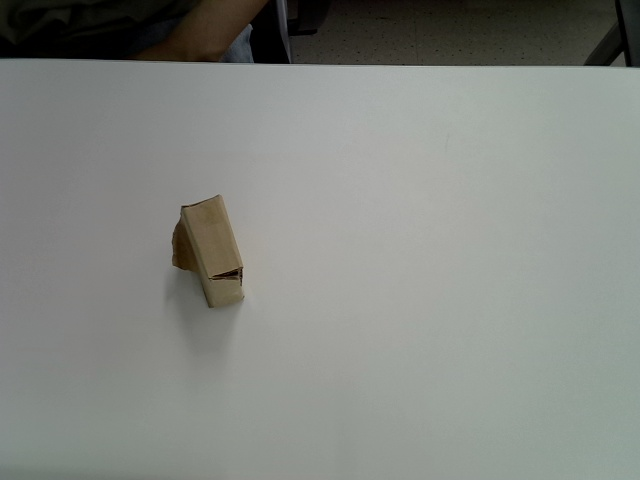defect: (171, 193, 246, 309)
